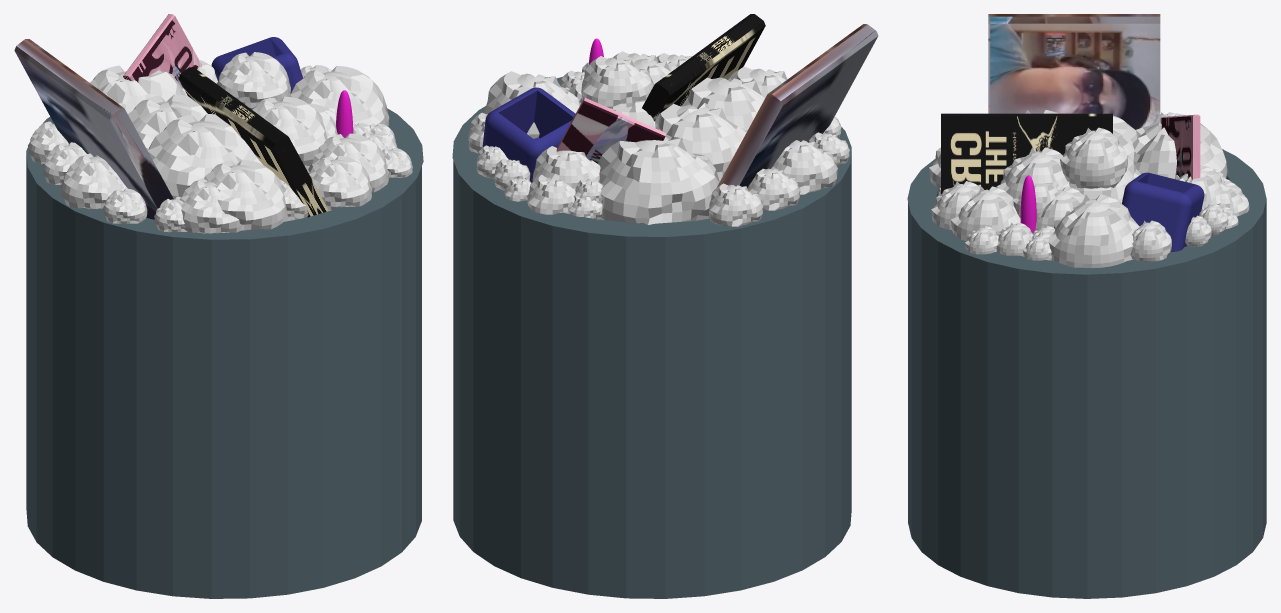
Rendered from Skraldespand.fbx.
The picture shows the model from 3 angles, left to right: view 1: azimuth 30°, elevation 25°; view 2: azimuth 150°, elevation 25°; view 3: azimuth 270°, elevation 25°; orthographic projection. The views are drawn at different scales.
Visible parts, largest first — view 1: Cylinder, Cube.002, Cube.003, Sphere.017, Sphere.001, Sphere.005, Sphere.003, Sphere.026, Cube.004, Sphere.018, Sphere.027, Sphere.002 (+11 smaller); view 2: Cylinder, Cube.002, Sphere.002, Cube.001, Cube.003, Sphere.008, Cube.004, Sphere.003, Sphere.017, Sphere.027, Sphere.005, Sphere.029 (+8 smaller); view 3: Cylinder, Cube.002, Cube.003, Sphere.005, Cube.001, Sphere.003, Sphere.002, Sphere.009, Sphere.026, Cube.004, Sphere.024, Sphere.018 (+12 smaller).
Part boxes in pixels (box(x1,y1,x2,y2)): Cylinder: box(26, 108, 423, 598); Cube.002: box(14, 39, 173, 219); Cube.003: box(178, 67, 328, 217); Sphere.017: box(147, 113, 262, 198); Sphere.001: box(204, 160, 288, 230); Sphere.005: box(290, 66, 389, 126); Sphere.003: box(216, 52, 290, 109); Sphere.026: box(252, 96, 327, 173); Cube.004: box(123, 14, 201, 88); Sphere.018: box(309, 156, 372, 210); Sphere.027: box(60, 153, 127, 209); Sphere.002: box(90, 65, 186, 113); Cylinder: box(452, 77, 851, 598); Cube.002: box(717, 24, 878, 187); Sphere.002: box(599, 137, 719, 224); Cube.001: box(482, 87, 575, 182); Cube.003: box(642, 14, 765, 120); Sphere.008: box(654, 103, 747, 181); Cube.004: box(556, 97, 666, 166); Sphere.003: box(581, 56, 653, 108); Sphere.017: box(682, 77, 765, 130); Sphere.027: box(771, 140, 837, 194); Sphere.005: box(484, 71, 579, 138); Sphere.029: box(709, 183, 763, 227); Cylinder: box(907, 149, 1266, 598); Cube.002: box(988, 14, 1160, 129); Cube.003: box(941, 113, 1112, 193); Sphere.005: box(1048, 194, 1139, 268); Cube.001: box(1122, 172, 1204, 251); Sphere.003: box(1060, 127, 1127, 188); Sphere.002: box(1132, 113, 1227, 178); Sphere.009: box(950, 186, 1020, 241); Sphere.026: box(996, 147, 1069, 198); Cube.004: box(1160, 114, 1200, 179); Sphere.024: box(1130, 220, 1171, 261); Sphere.018: box(931, 181, 980, 229).
Size of the model in its own units: 201 by 270 by 200.
Materials: 6 (3 with a texture image).
